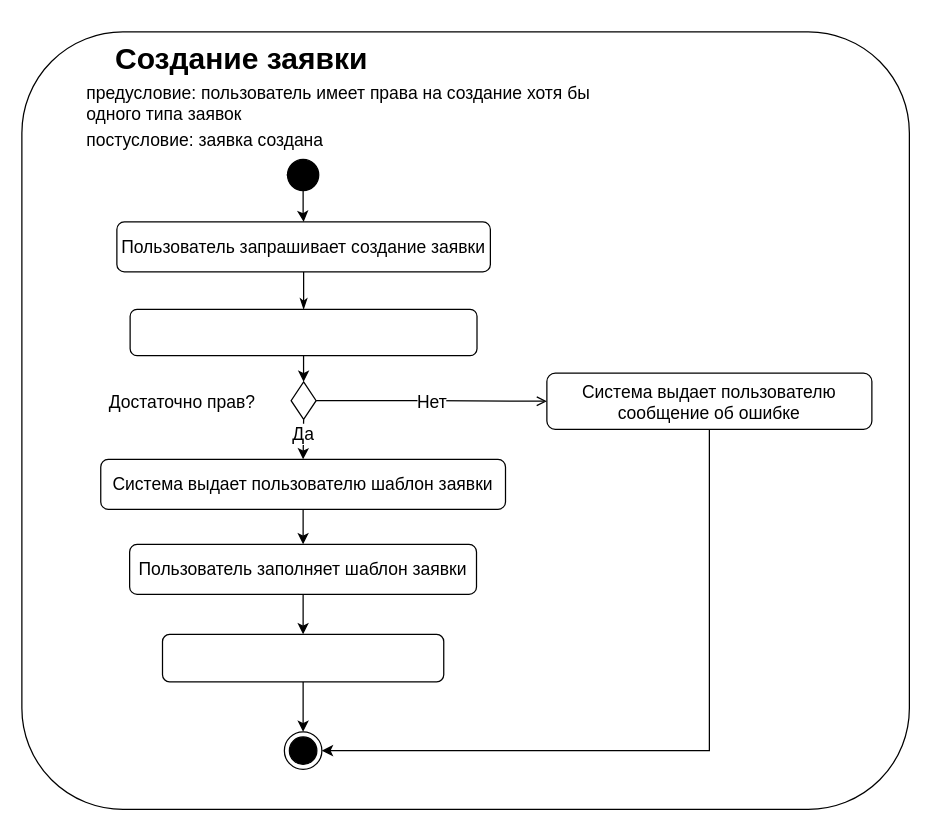
This 931x831 diagram has some shape labels left out. The shapes that lost their labels are listed below. From the top down, each one's centre as x and y in pixels, then its label:
(x=303, y=332): Система проверяет права пользователя
(x=302, y=657): Пользователь утверждает создание заявки
